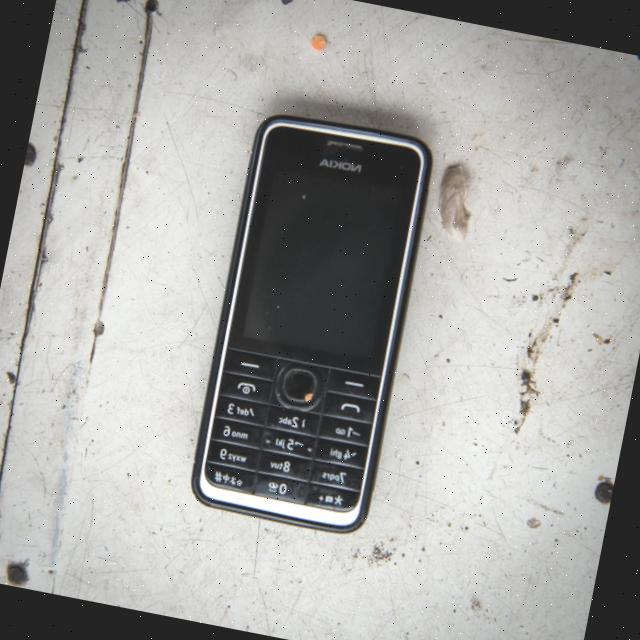Phone: (180, 101, 444, 542)
